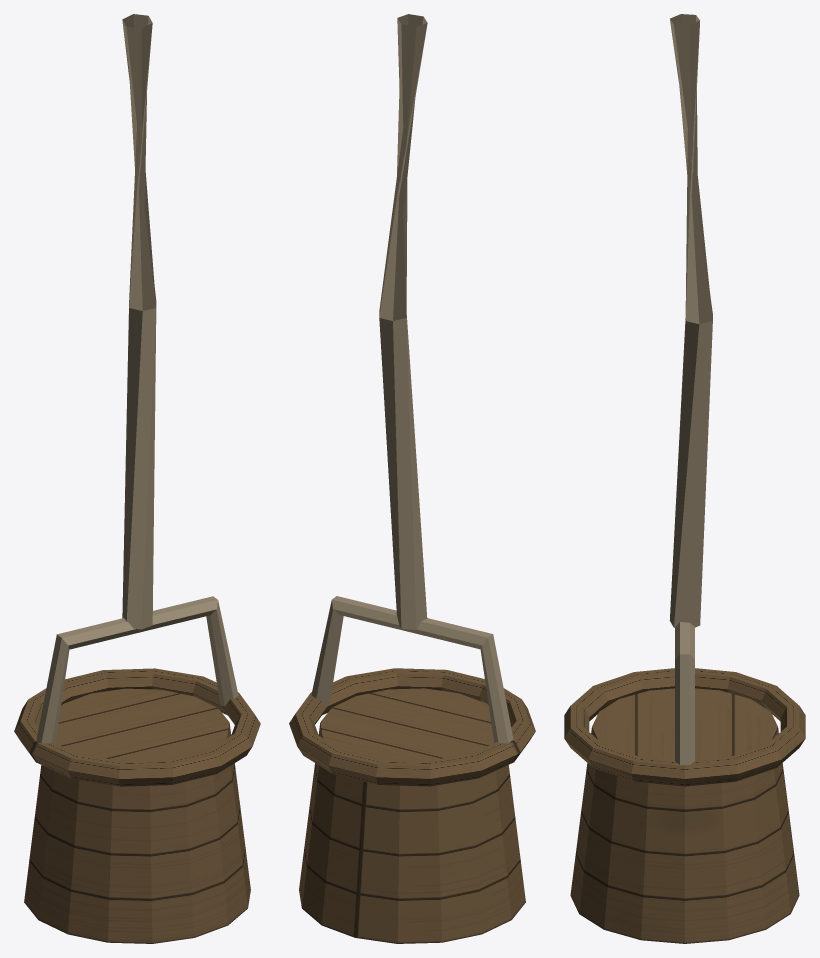
File: gieng-co-gau-muc-nuoc.glb
3 views of the same model, side by side, from view 1: azimuth 30°, elevation 25°; view 2: azimuth 150°, elevation 25°; view 3: azimuth 270°, elevation 25° (orthographic).
Parts seen in each view (by area): view 1: gieng-co-gau-muc-nuoc; view 2: gieng-co-gau-muc-nuoc; view 3: gieng-co-gau-muc-nuoc.
Part boxes in pixels (x1=…): gieng-co-gau-muc-nuoc: x1=14, y1=14, x2=260, y2=943; gieng-co-gau-muc-nuoc: x1=289, y1=14, x2=535, y2=943; gieng-co-gau-muc-nuoc: x1=564, y1=14, x2=805, y2=943.
Size of the model in its own units: 0.346 by 1.35 by 0.3373.
Materials: 3 (2 with a texture image).
